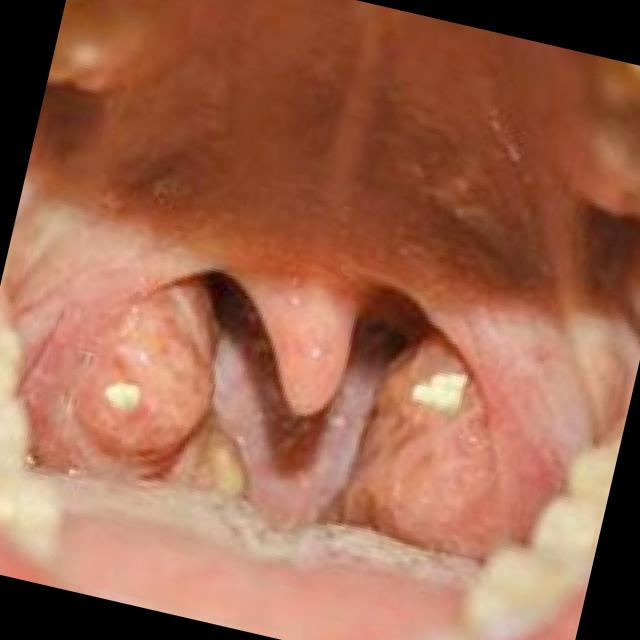pharyngitis: (35, 269, 228, 490), (343, 337, 524, 561)
